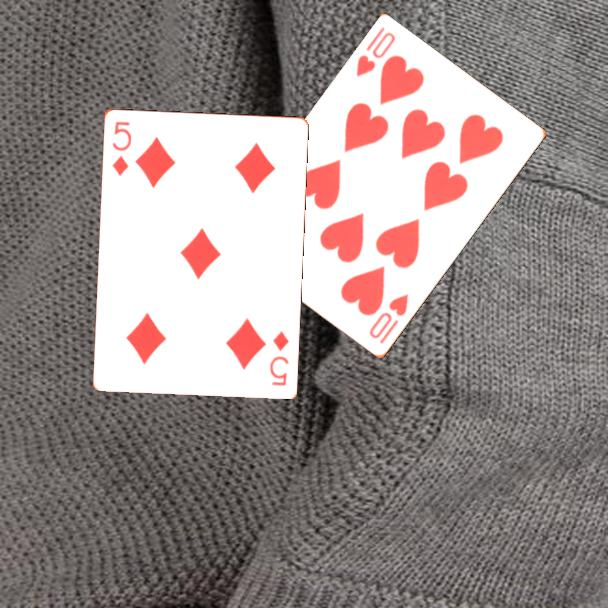d05: (266, 327, 292, 388), (108, 118, 134, 178)
h10: (352, 24, 398, 80), (366, 291, 411, 347)
